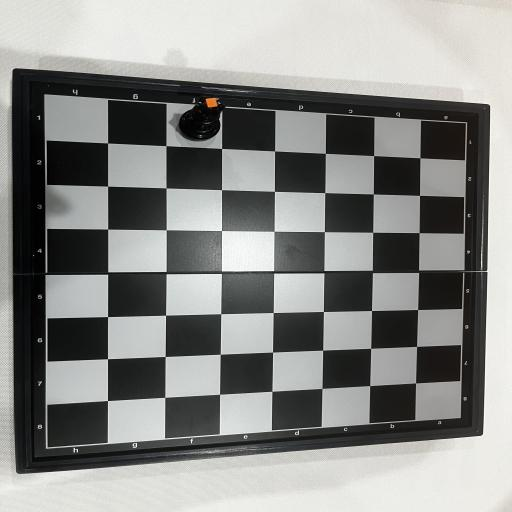Black queen: (178, 98, 224, 142)
